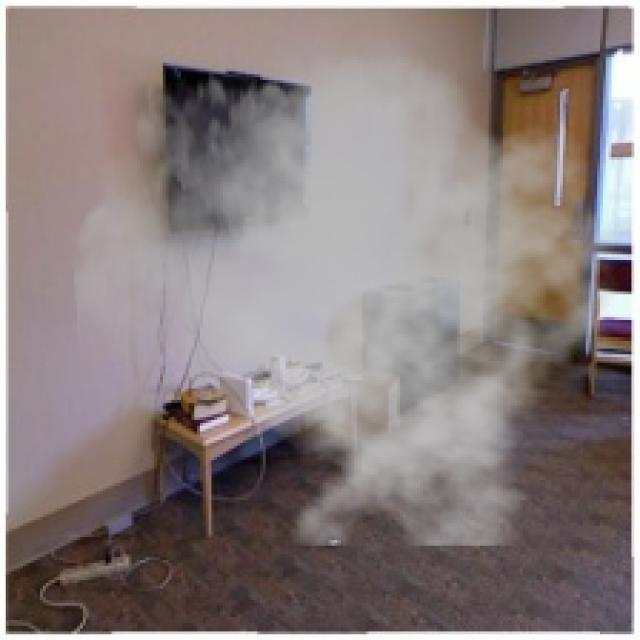smoke: (71, 3, 634, 546)
